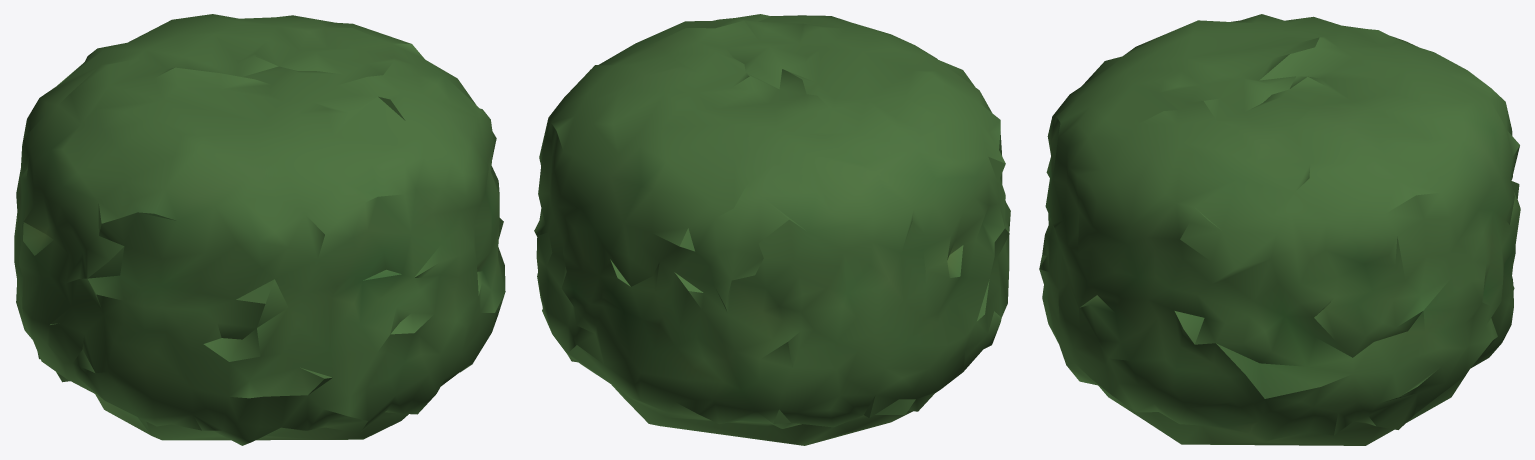
The model's file is bush.glb.
3 renders of one model, left to right at view 1: azimuth 30°, elevation 25°; view 2: azimuth 150°, elevation 25°; view 3: azimuth 270°, elevation 25°, orthographic.
Visible parts, largest first — view 1: bush; view 2: bush; view 3: bush.
Boxes of the visible parts, x1,y1,x2,y2 form: bush: (14, 14, 505, 445); bush: (534, 14, 1010, 445); bush: (1039, 14, 1520, 445).
Bounding box in the file's own units: 1.25 × 0.9 × 1.24.
